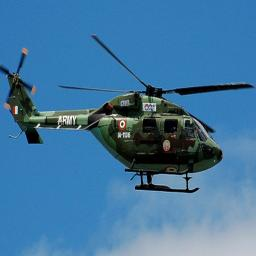helicopter: (7, 35, 255, 197)
